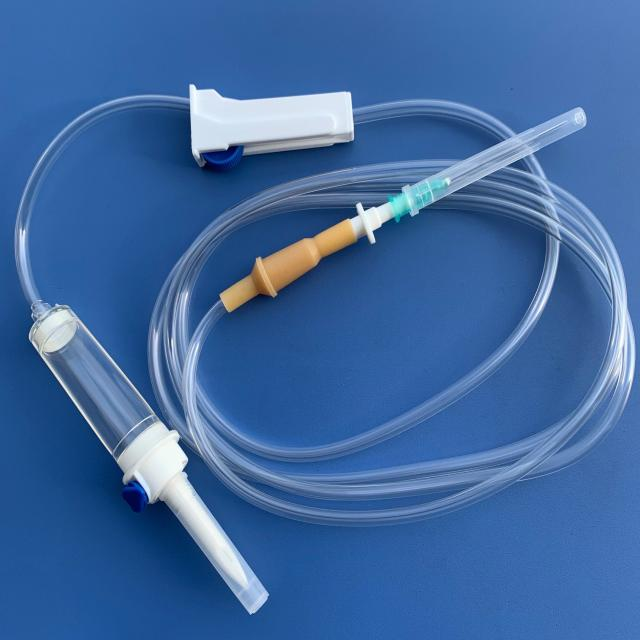B3: (12, 75, 634, 613)
